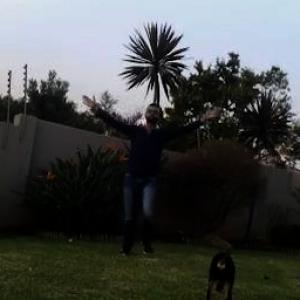takeoff: (96, 96, 230, 256)
